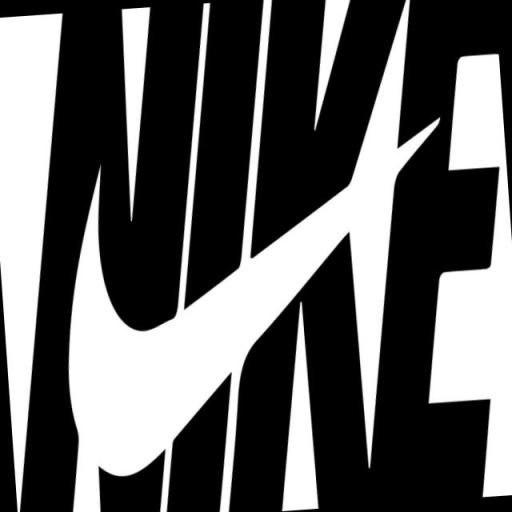Nike: (53, 112, 464, 477)
